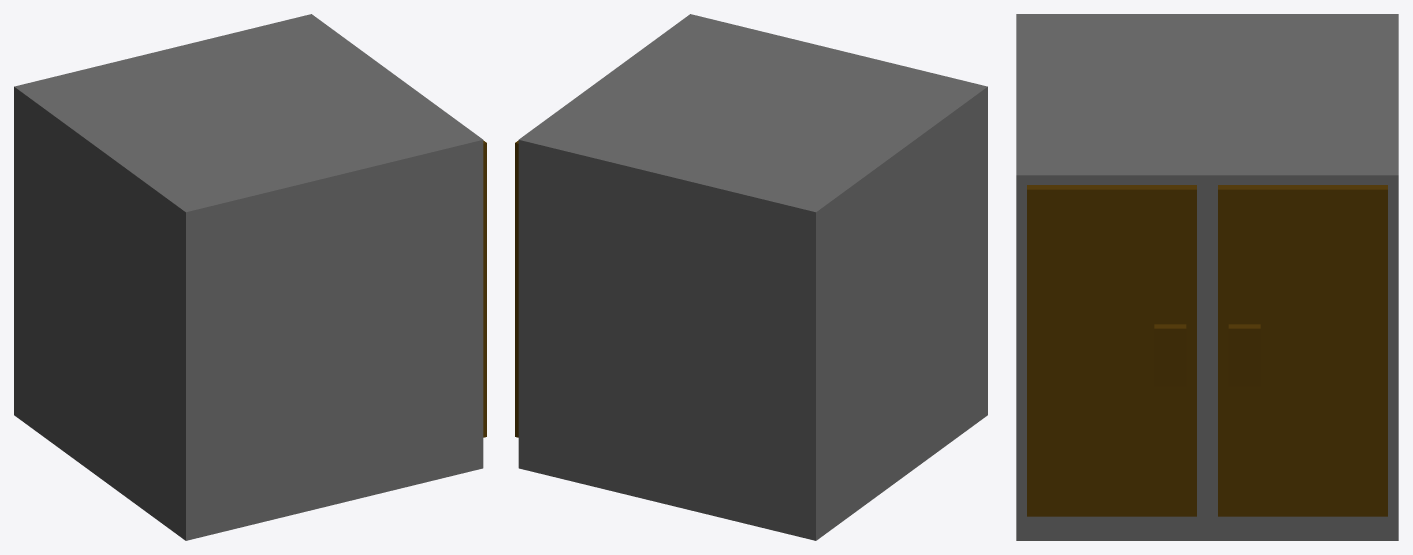
File: nightstand.obj
3 renders of one model, left to right at view 1: azimuth 30°, elevation 25°; view 2: azimuth 150°, elevation 25°; view 3: azimuth 270°, elevation 25°, orthographic. The views are drawn at different scales.
Parts seen in each view (by area): view 1: nightstand; view 2: nightstand; view 3: nightstand.
Part boxes in pixels (x1=…): nightstand: x1=14, y1=14, x2=486, y2=540; nightstand: x1=515, y1=14, x2=987, y2=540; nightstand: x1=1016, y1=14, x2=1398, y2=540.
Bounding box in the file's own units: 38 × 38 × 36.
1 material, 1 textured.
